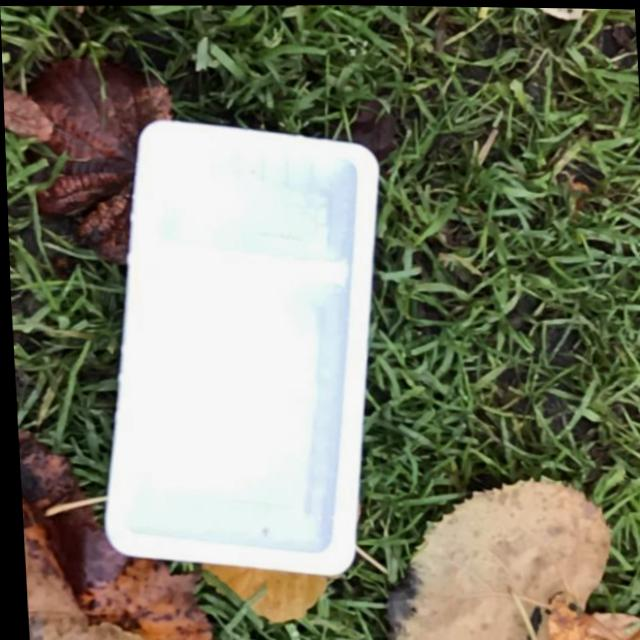Plastic: (76, 114, 399, 584)
